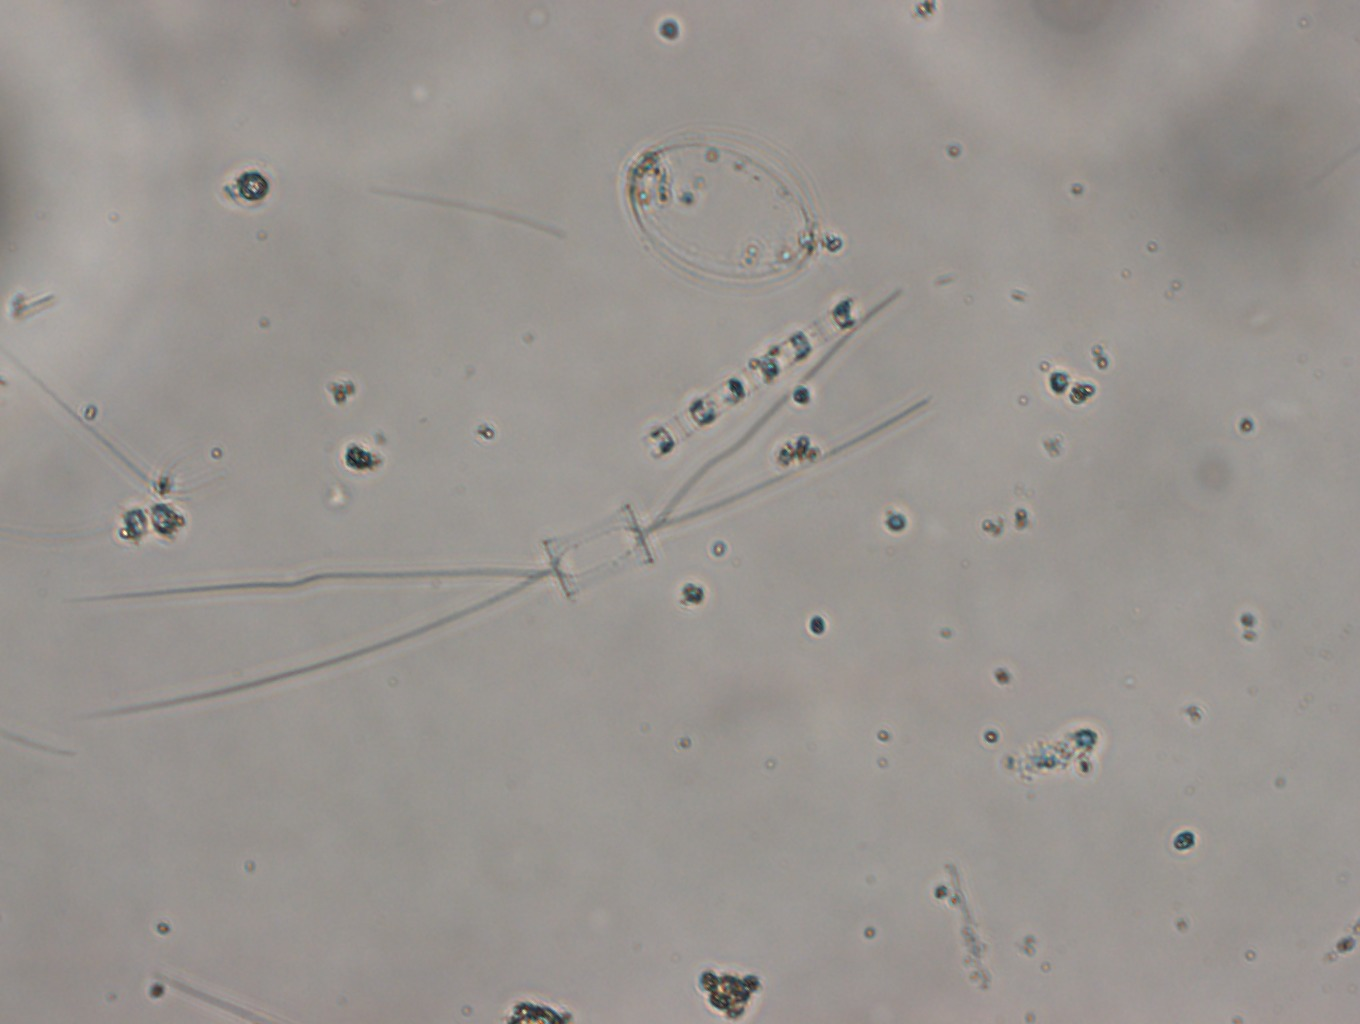chaetoceros: (94, 303, 931, 709)
skeletonema: (639, 289, 883, 463)
